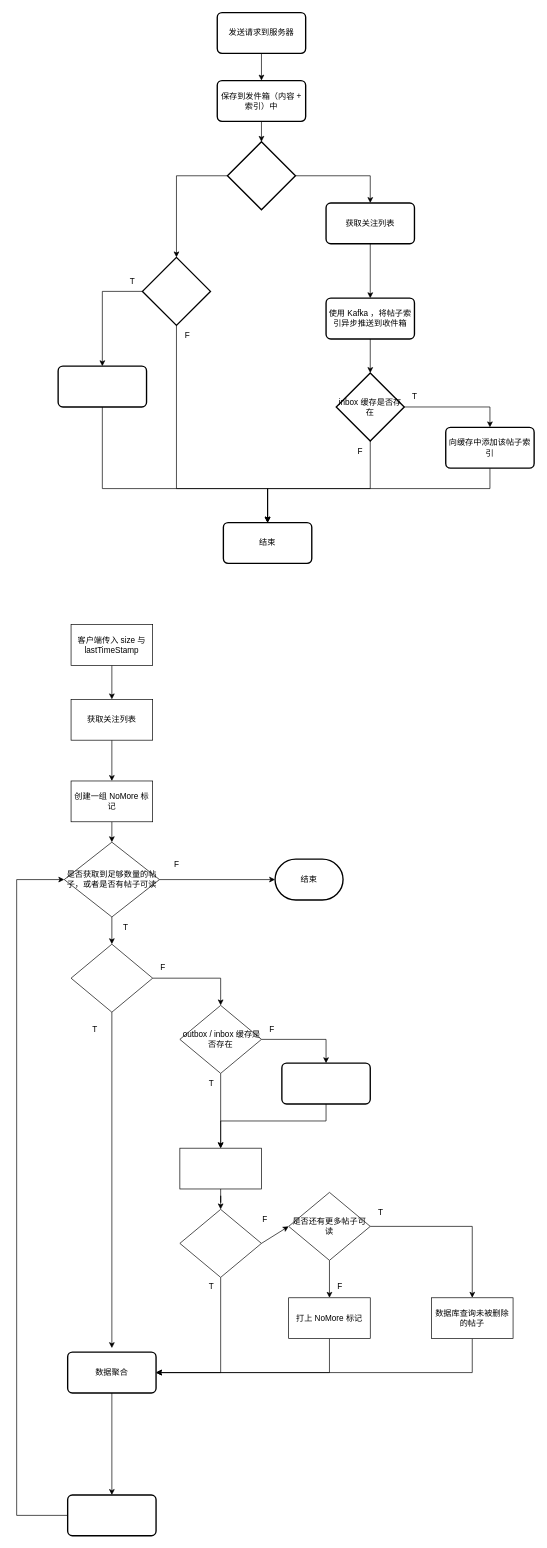
This 547x1548 diagram has some shape labels left out. Each missing label, with the centre of its shape:
outbox 缓存是否存在: (x=176, y=291)
向缓存中添加该帖子的索引: (x=102, y=386)
按 lastTimeStamp 查询 size 个: (x=220, y=1168)
数量是否足够: (x=220, y=1243)
是否为大 V: (x=261, y=175)
是否有 NoMore 标记: (x=111, y=978)
更新 lastTimeStamp 与 size: (x=111, y=1515)
构建缓存: (x=326, y=1083)
